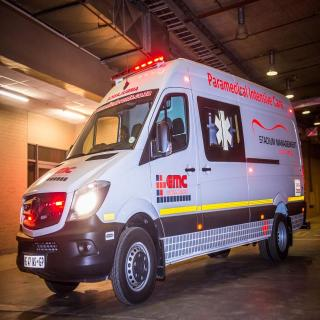Ambulance: (8, 48, 310, 302)
